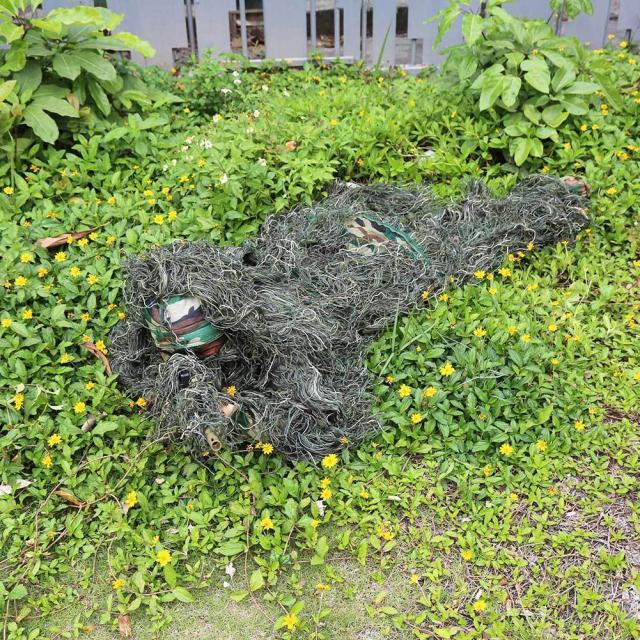Camouflage: (109, 177, 596, 464)
